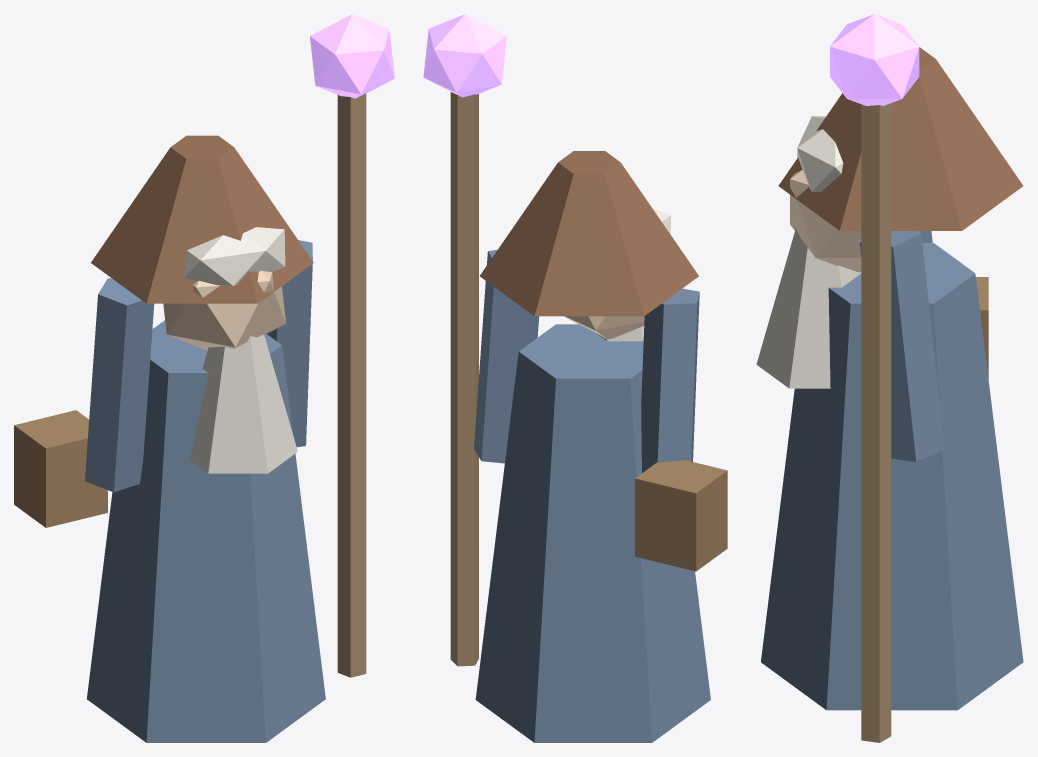
File: npc_elder.glb
3 views of the same model, side by side, from view 1: azimuth 30°, elevation 25°; view 2: azimuth 150°, elevation 25°; view 3: azimuth 270°, elevation 25° (orthographic). The views are drawn at different scales.
Parts seen in each view (by area): view 1: robe, hat, staff, arm_0.003, beard, satchel.001, staff_orb, head.003, arm_1.003, brow; view 2: robe, hat, staff, satchel.001, arm_0.003, arm_1.003, staff_orb, head.003; view 3: robe, hat, staff, arm_1.003, beard, staff_orb, head.003, brow, satchel.001.
Boxes of the visible parts, <box> form: robe: <box>87,320,325,742</box>; hat: <box>91,135,313,303</box>; staff: <box>337,93,366,677</box>; arm_0.003: <box>85,278,154,492</box>; beard: <box>189,334,297,473</box>; satchel.001: <box>14,410,107,527</box>; staff_orb: <box>310,14,394,98</box>; head.003: <box>163,270,285,350</box>; arm_1.003: <box>267,240,312,447</box>; brow: <box>183,227,285,286</box>; robe: <box>475,324,710,742</box>; hat: <box>480,151,698,316</box>; staff: <box>450,92,478,666</box>; satchel.001: <box>635,460,727,571</box>; arm_0.003: <box>641,288,699,472</box>; arm_1.003: <box>474,249,539,463</box>; staff_orb: <box>423,14,506,97</box>; head.003: <box>564,316,644,339</box>; robe: <box>761,243,1023,710</box>; hat: <box>778,47,1023,230</box>; staff: <box>861,103,891,742</box>; arm_1.003: <box>859,231,944,461</box>; beard: <box>756,228,861,388</box>; staff_orb: <box>830,14,919,105</box>; head.003: <box>790,169,918,272</box>; brow: <box>797,116,843,191</box>; satchel.001: <box>976,277,988,378</box>.
Bounding box in the file's own units: 0.9373 × 1.82 × 0.61.
